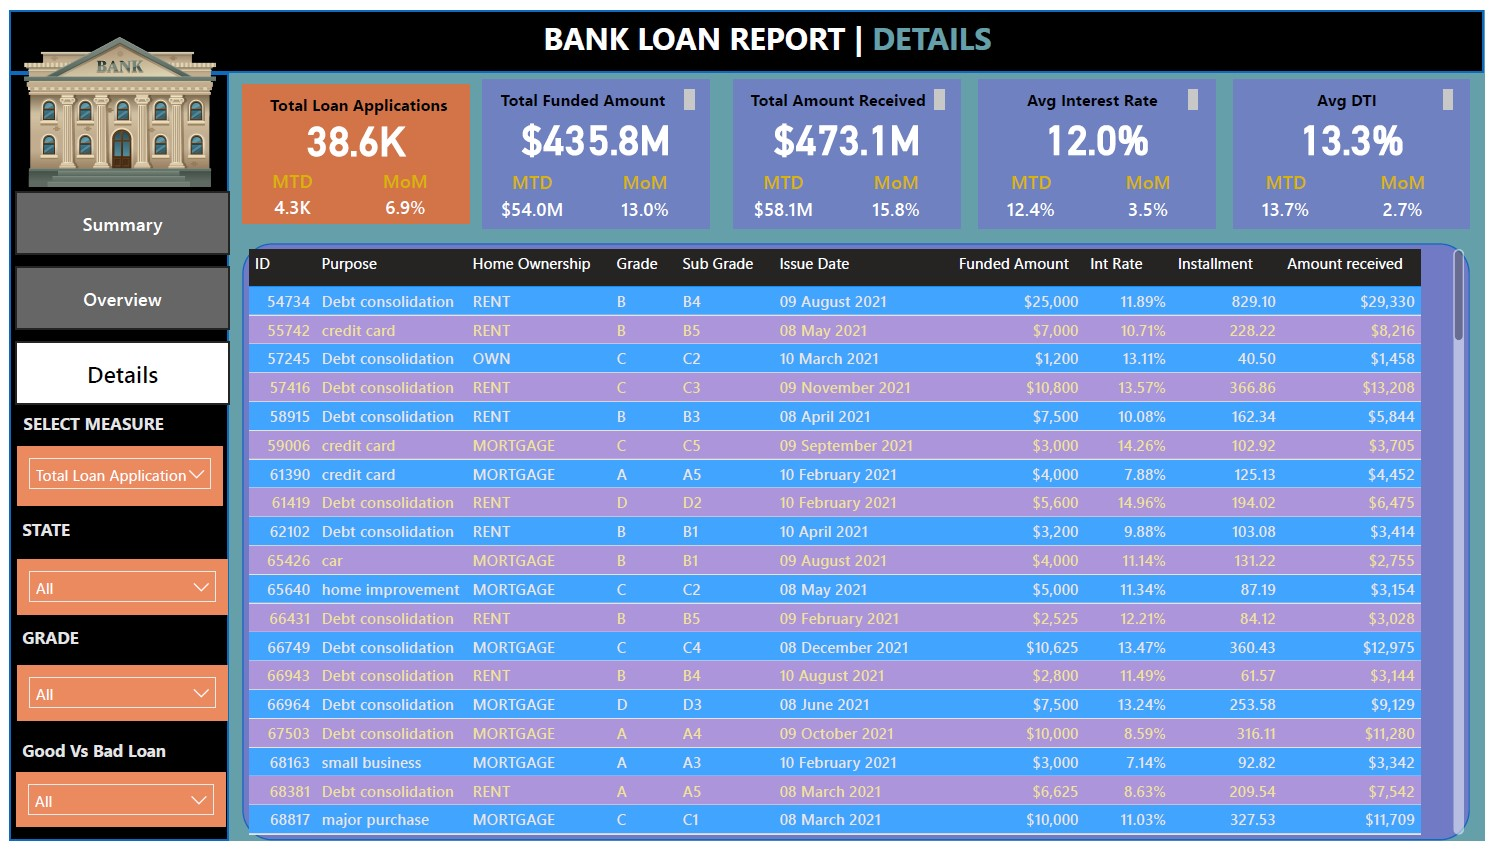

The dashboard page shown, as its layout file describes it:
{"tool":"powerbi","page":{"name":"Details","canvas":[1280,720],"ordinal":2},"visuals":[{"type":"shape","box":[201.9,201.9,1064.9,518.1],"z":0},{"type":"shape","box":[0,0,1279.5,54],"z":1000},{"type":"shape","box":[0,54.2,190,665.8],"z":2000},{"type":"textbox","box":[457.7,0,481.6,55.6],"z":3000},{"type":"shape","box":[410.1,60.4,197.1,128.7],"z":3000,"group":"g2"},{"type":"shape","box":[627.8,60.4,197.1,128.7],"z":3000,"group":"g3"},{"type":"shape","box":[840.8,60.4,205,128.7],"z":3000,"group":"g4"},{"type":"shape","box":[1061.7,60.4,205,128.7],"z":3000,"group":"g5"},{"type":"shape","box":[201.9,63.6,197.1,120.8],"z":3000,"group":"g1"},{"type":"group","id":"g1","title":"Group 1","box":[201.9,63.6,197.1,120.8],"z":4000},{"type":"card","fields":{"Values":["bank_loan_data.Total Funded Amount"]},"box":[410.1,77.8,197.1,64.4],"z":4000,"group":"g2"},{"type":"card","fields":{"Values":["bank_loan_data.Total Amount received"]},"box":[627.8,77.8,197.1,64.4],"z":4000,"group":"g3"},{"type":"card","fields":{"Values":["bank_loan_data.Avg Interest Rate"]},"box":[840.8,77.8,205,64.4],"z":4000,"group":"g4"},{"type":"card","fields":{"Values":["bank_loan_data.AVG DTI"]},"box":[1061.7,77.8,205,64.4],"z":4000,"group":"g5"},{"type":"card","fields":{"Values":["bank_loan_data.Total Loan Application"]},"box":[201.9,79.9,197.1,60.4],"z":4000,"group":"g1"},{"type":"group","id":"g2","title":"Group 1","box":[410.1,60.4,197.1,128.7],"z":4250,"group":"g6"},{"type":"group","id":"g3","title":"Group 1","box":[627.8,60.4,197.1,128.7],"z":4250,"group":"g7"},{"type":"group","id":"g4","title":"Group 1","box":[840.8,60.4,205,128.7],"z":4250,"group":"g8"},{"type":"group","id":"g5","title":"Group 1","box":[1061.7,60.4,205,128.7],"z":4250,"group":"g9"},{"type":"textbox","box":[220.9,66.8,178,31.8],"z":5000},{"type":"textbox","box":[421.1,62.9,178,28.6],"z":5001,"group":"g6"},{"type":"textbox","box":[637.3,63.9,178,27.8],"z":5001,"group":"g7"},{"type":"textbox","box":[850.7,63.9,185.2,27.8],"z":5001,"group":"g8"},{"type":"textbox","box":[1071.6,63.9,185.2,27.8],"z":5001,"group":"g9"},{"type":"group","id":"g6","title":"Group 2","box":[410.1,60.4,197.1,128.7],"z":6000},{"type":"card","title":"MTD","fields":{"Values":["bank_loan_data.MTD Loan Applications"]},"box":[201.9,137.1,87.4,47.3],"z":6000,"group":"g1"},{"type":"card","title":"MTD","fields":{"Values":["bank_loan_data.MTD Loan Amount"]},"box":[410.1,138.7,87.4,50.5],"z":6000,"group":"g2"},{"type":"card","title":"MTD","fields":{"Values":["bank_loan_data.MTD Total amount received"]},"box":[627.8,138.7,87.4,50.5],"z":6000,"group":"g3"},{"type":"card","title":"MTD","fields":{"Values":["bank_loan_data.MTD Avg interest rate"]},"box":[840.8,138.7,90.9,50.5],"z":6000,"group":"g4"},{"type":"card","title":"MTD","fields":{"Values":["bank_loan_data.MTD Avg DTI"]},"box":[1061.7,138.7,90.9,50.5],"z":6000,"group":"g5"},{"type":"group","id":"g7","title":"Group 2","box":[627.8,60.4,197.1,128.7],"z":7000},{"type":"card","title":"MoM","fields":{"Values":["bank_loan_data.MOM Loan Application"]},"box":[287.7,137.1,111.3,47.3],"z":7000,"group":"g1"},{"type":"card","title":"MoM","fields":{"Values":["bank_loan_data.MOM Total funded amount"]},"box":[495.9,138.7,111.3,50.5],"z":7000,"group":"g2"},{"type":"card","title":"MoM","fields":{"Values":["bank_loan_data.MOM Total amount received"]},"box":[713.6,138.7,111.3,50.5],"z":7000,"group":"g3"},{"type":"card","title":"MoM","fields":{"Values":["bank_loan_data.MOM Avg Int Rate"]},"box":[930.1,138.7,115.7,50.5],"z":7000,"group":"g4"},{"type":"card","title":"MoM","fields":{"Values":["bank_loan_data.MOM Avg DTI"]},"box":[1151,138.7,115.7,50.5],"z":7000,"group":"g5"},{"type":"group","id":"g8","title":"Group 2","box":[840.8,60.4,205,128.7],"z":8000},{"type":"group","id":"g9","title":"Group 2","box":[1061.7,60.4,205,128.7],"z":9000},{"type":"slicer","fields":{"Values":["bank_loan_data.address_state"]},"box":[7.4,476.3,181.2,47.7],"z":10000},{"type":"textbox","box":[5.8,435,76.3,31.8],"z":11000},{"type":"slicer","fields":{"Values":["bank_loan_data.grade"]},"box":[7.4,568.5,181.2,47.7],"z":12000},{"type":"textbox","box":[5.8,528.7,76.3,31.8],"z":13000},{"type":"textbox","box":[5.8,627.3,179.6,33.4],"z":14000},{"type":"slicer","fields":{"Values":["bank_loan_data.Good Vs Bad Loans"]},"box":[5.8,660.7,181.2,47.7],"z":15000},{"type":"slicer","fields":{"Values":["Parameter.Parameter"]},"box":[7.4,377.7,178,50.9],"z":16000},{"type":"textbox","box":[7.4,342.8,149.4,31.8],"z":17000},{"type":"tableEx","fields":{"Values":["bank_loan_data.id","bank_loan_data.purpose","bank_loan_data.home_ownership","bank_loan_data.grade","bank_loan_data.sub_grade","bank_loan_data.issue_date","bank_loan_data.Total Funded Amount","Sum(bank_loan_data.int_rate)","Sum(bank_loan_data.installment)","bank_loan_data.Total Amount received"]},"box":[201.9,201.9,1064.9,518.1],"z":18000},{"type":"pageNavigator","box":[4.8,157.4,186,186],"z":18001},{"type":"image","box":[7.9,0,176.4,174.8],"z":18002}]}

Visuals, with their boxes in screenshot pixels (x1, y1, x2, y2), scaled from the page's 1280x720 canvas onto the 1491x850 screenshot:
shape: {"x1": 235, "y1": 238, "x2": 1476, "y2": 849}
shape: {"x1": 0, "y1": 0, "x2": 1490, "y2": 64}
shape: {"x1": 0, "y1": 64, "x2": 221, "y2": 849}
textbox: {"x1": 533, "y1": 0, "x2": 1094, "y2": 66}
shape: {"x1": 478, "y1": 71, "x2": 707, "y2": 223}
shape: {"x1": 731, "y1": 71, "x2": 961, "y2": 223}
shape: {"x1": 979, "y1": 71, "x2": 1218, "y2": 223}
shape: {"x1": 1237, "y1": 71, "x2": 1476, "y2": 223}
shape: {"x1": 235, "y1": 75, "x2": 465, "y2": 218}
"Group 1" group: {"x1": 235, "y1": 75, "x2": 465, "y2": 218}
card - bank_loan_data.Total Funded Amount: {"x1": 478, "y1": 92, "x2": 707, "y2": 168}
card - bank_loan_data.Total Amount received: {"x1": 731, "y1": 92, "x2": 961, "y2": 168}
card - bank_loan_data.Avg Interest Rate: {"x1": 979, "y1": 92, "x2": 1218, "y2": 168}
card - bank_loan_data.AVG DTI: {"x1": 1237, "y1": 92, "x2": 1476, "y2": 168}
card - bank_loan_data.Total Loan Application: {"x1": 235, "y1": 94, "x2": 465, "y2": 166}
"Group 1" group: {"x1": 478, "y1": 71, "x2": 707, "y2": 223}
"Group 1" group: {"x1": 731, "y1": 71, "x2": 961, "y2": 223}
"Group 1" group: {"x1": 979, "y1": 71, "x2": 1218, "y2": 223}
"Group 1" group: {"x1": 1237, "y1": 71, "x2": 1476, "y2": 223}
textbox: {"x1": 257, "y1": 79, "x2": 465, "y2": 116}
textbox: {"x1": 491, "y1": 74, "x2": 698, "y2": 108}
textbox: {"x1": 742, "y1": 75, "x2": 950, "y2": 108}
textbox: {"x1": 991, "y1": 75, "x2": 1207, "y2": 108}
textbox: {"x1": 1248, "y1": 75, "x2": 1464, "y2": 108}
"Group 2" group: {"x1": 478, "y1": 71, "x2": 707, "y2": 223}
"MTD" card: {"x1": 235, "y1": 162, "x2": 337, "y2": 218}
"MTD" card: {"x1": 478, "y1": 164, "x2": 580, "y2": 223}
"MTD" card: {"x1": 731, "y1": 164, "x2": 833, "y2": 223}
"MTD" card: {"x1": 979, "y1": 164, "x2": 1085, "y2": 223}
"MTD" card: {"x1": 1237, "y1": 164, "x2": 1343, "y2": 223}
"Group 2" group: {"x1": 731, "y1": 71, "x2": 961, "y2": 223}
"MoM" card: {"x1": 335, "y1": 162, "x2": 465, "y2": 218}
"MoM" card: {"x1": 578, "y1": 164, "x2": 707, "y2": 223}
"MoM" card: {"x1": 831, "y1": 164, "x2": 961, "y2": 223}
"MoM" card: {"x1": 1083, "y1": 164, "x2": 1218, "y2": 223}
"MoM" card: {"x1": 1341, "y1": 164, "x2": 1476, "y2": 223}
"Group 2" group: {"x1": 979, "y1": 71, "x2": 1218, "y2": 223}
"Group 2" group: {"x1": 1237, "y1": 71, "x2": 1476, "y2": 223}
slicer - bank_loan_data.address_state: {"x1": 9, "y1": 562, "x2": 220, "y2": 619}
textbox: {"x1": 7, "y1": 514, "x2": 96, "y2": 551}
slicer - bank_loan_data.grade: {"x1": 9, "y1": 671, "x2": 220, "y2": 727}
textbox: {"x1": 7, "y1": 624, "x2": 96, "y2": 662}
textbox: {"x1": 7, "y1": 741, "x2": 216, "y2": 780}
slicer - bank_loan_data.Good Vs Bad Loans: {"x1": 7, "y1": 780, "x2": 218, "y2": 836}
slicer - Parameter.Parameter: {"x1": 9, "y1": 446, "x2": 216, "y2": 506}
textbox: {"x1": 9, "y1": 405, "x2": 183, "y2": 442}
tableEx - bank_loan_data.id x bank_loan_data.purpose: {"x1": 235, "y1": 238, "x2": 1476, "y2": 849}
pageNavigator: {"x1": 6, "y1": 186, "x2": 222, "y2": 405}
image: {"x1": 9, "y1": 0, "x2": 215, "y2": 206}
